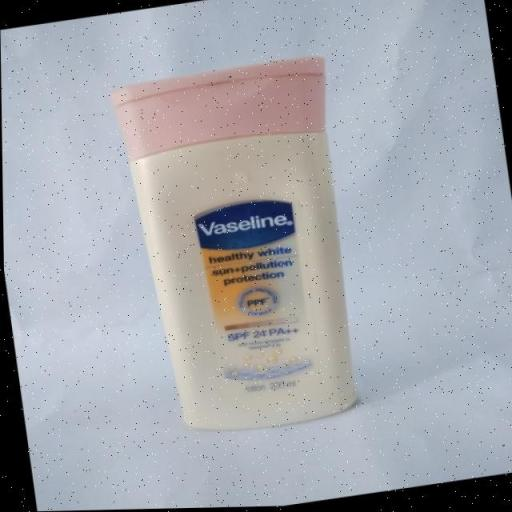plastic: (103, 48, 373, 449)
